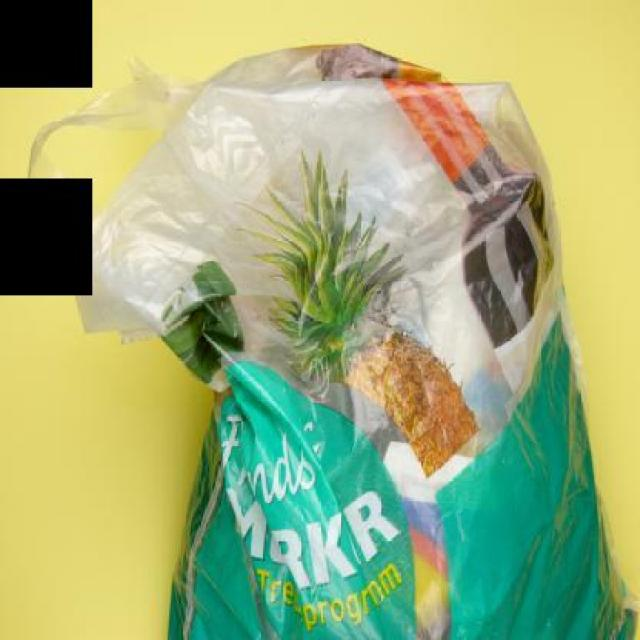plastic bag: (21, 37, 638, 638)
